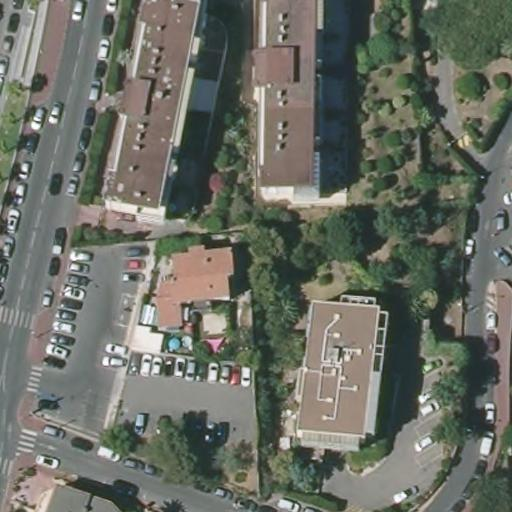pool: (166, 334, 180, 352)
